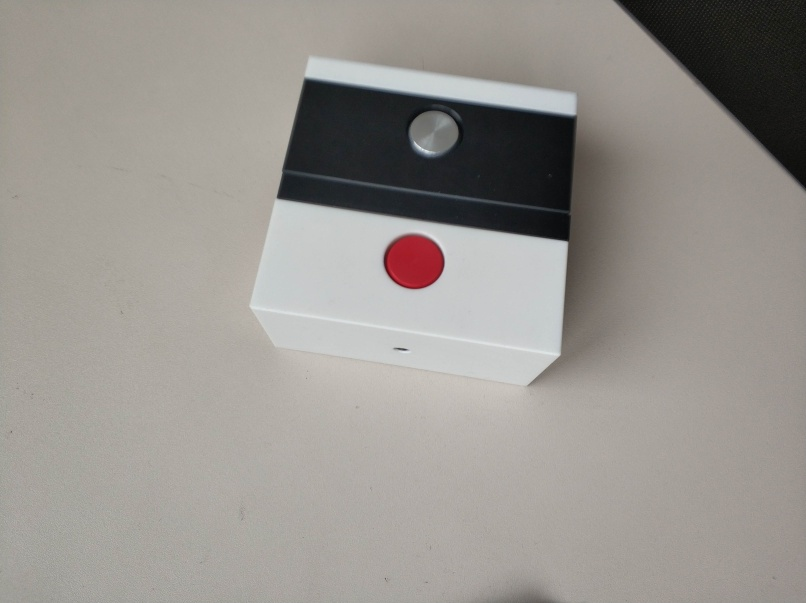black+white+red: (245, 171, 573, 388)
white+black+silver: (277, 52, 579, 210)
